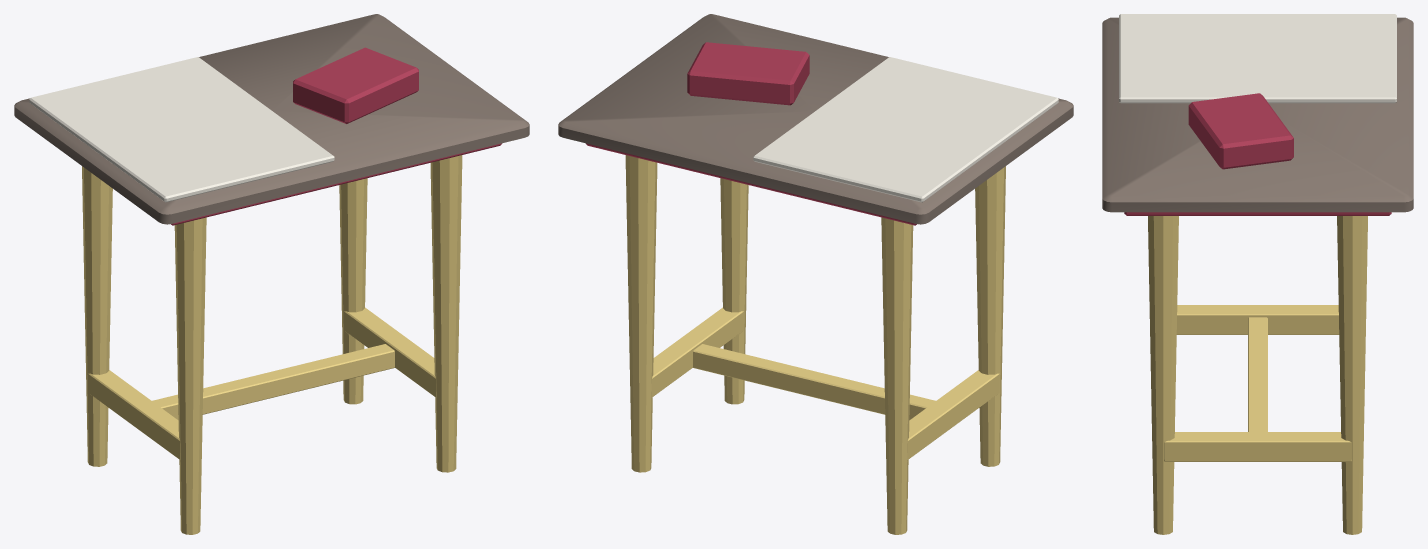
Rendered from theatre-stage-and-backstage-set-dressing-table-5d0f7164.glb.
The picture shows the model from 3 angles, left to right: view 1: azimuth 30°, elevation 25°; view 2: azimuth 150°, elevation 25°; view 3: azimuth 270°, elevation 25°; orthographic projection.
Parts seen in each view (by area): view 1: set-dressing-table; view 2: set-dressing-table; view 3: set-dressing-table.
Boxes of the visible parts, bbox=[...] form: set-dressing-table: bbox=[14, 14, 529, 534]; set-dressing-table: bbox=[558, 14, 1073, 534]; set-dressing-table: bbox=[1102, 14, 1413, 534].
Size of the model in its own units: 0.78 by 0.766 by 0.56.
